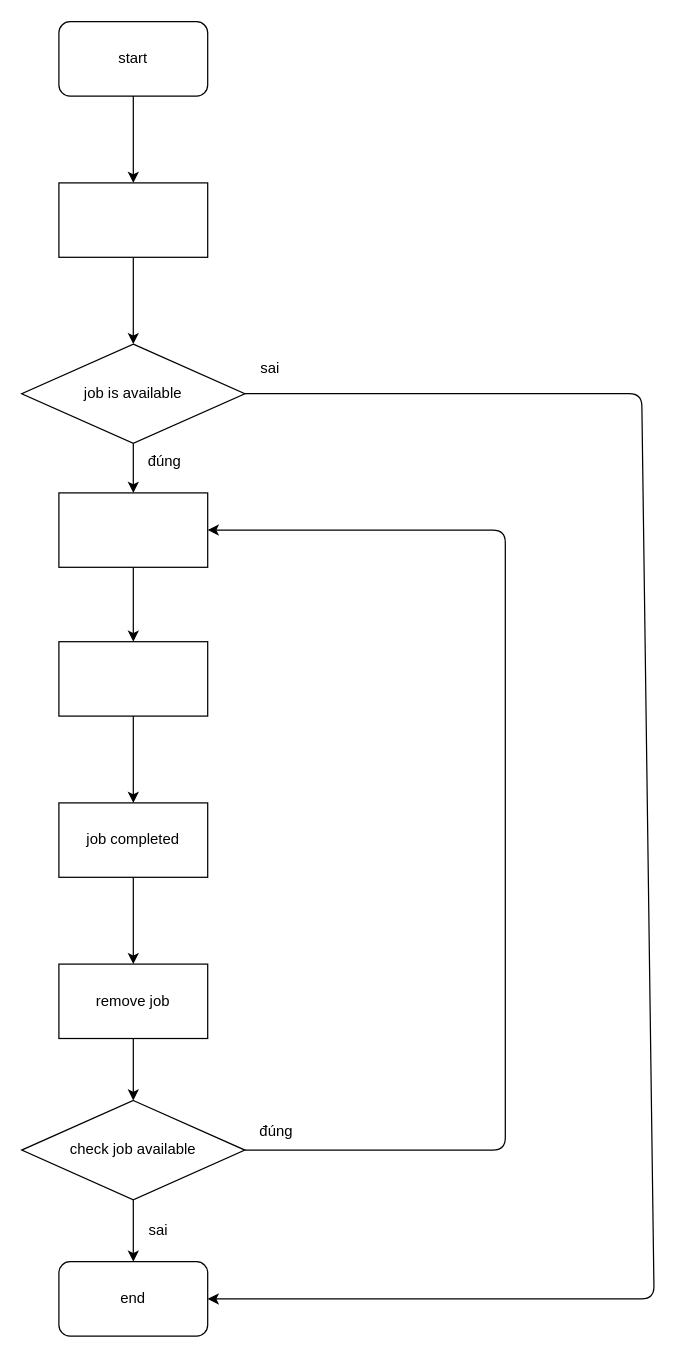
This 686x1358 diagram has some shape labels left out. The centre of each missing label's shape, as x and y in pixels:
"check for new job" goes at point 133,219.
"fetch a new job" goes at point 133,529.
"process job" goes at point 133,678.
